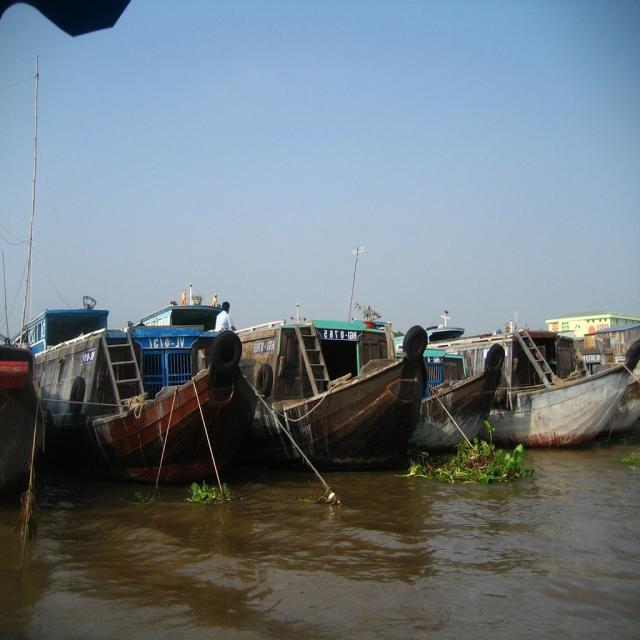Hyacinth: (411, 434, 535, 492), (172, 477, 248, 508)
